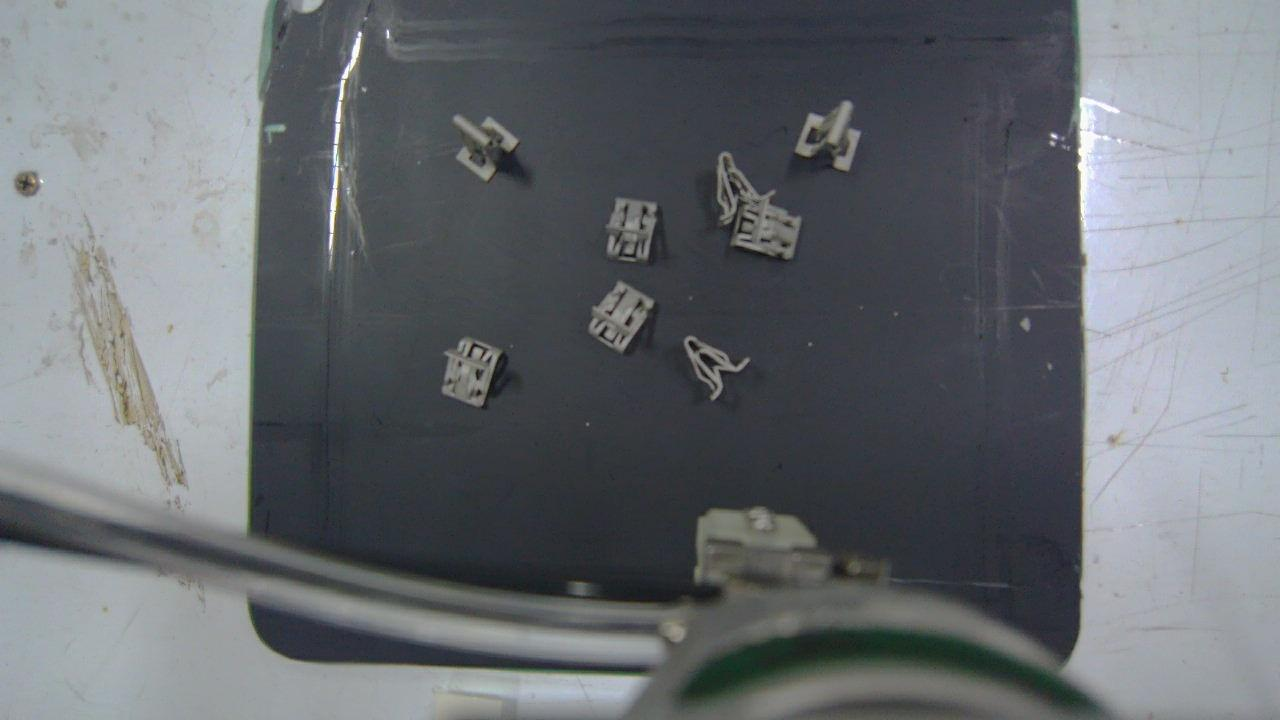ng: (587, 283, 654, 352), (731, 196, 802, 260), (716, 152, 778, 221), (444, 335, 503, 407), (684, 338, 748, 398), (604, 199, 659, 258)
pass: (794, 103, 863, 173), (454, 116, 518, 181)
